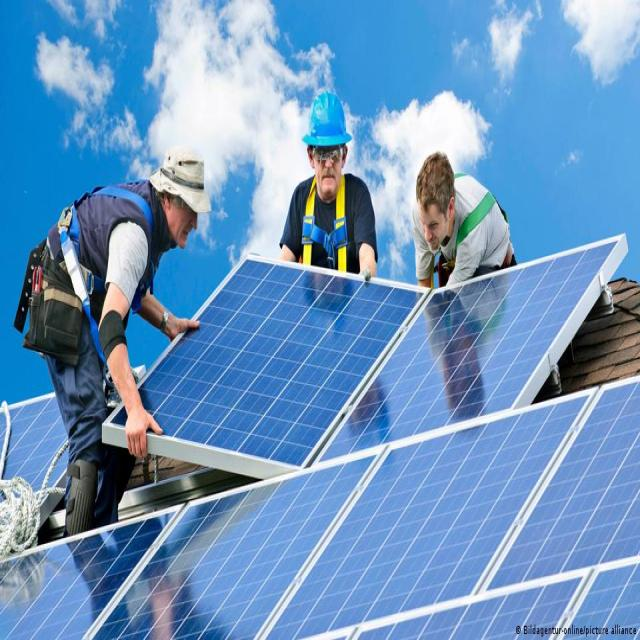clean-solar-panel: (0, 379, 640, 638), (140, 233, 628, 478)
